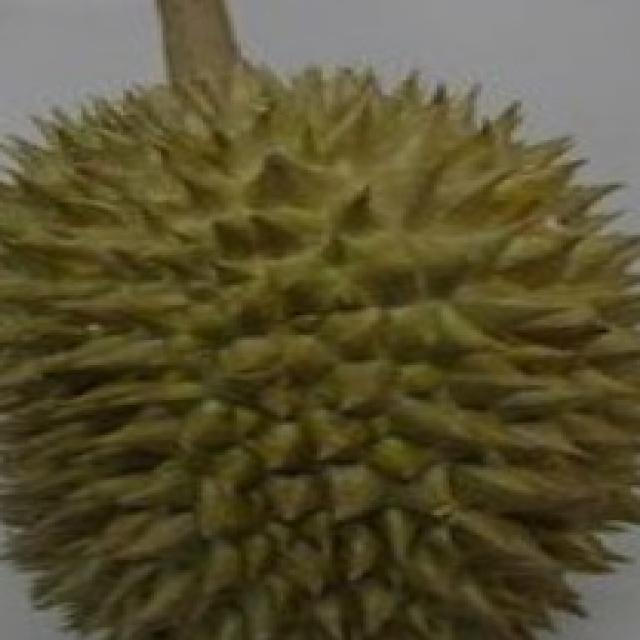fruit: (0, 272, 345, 640)
